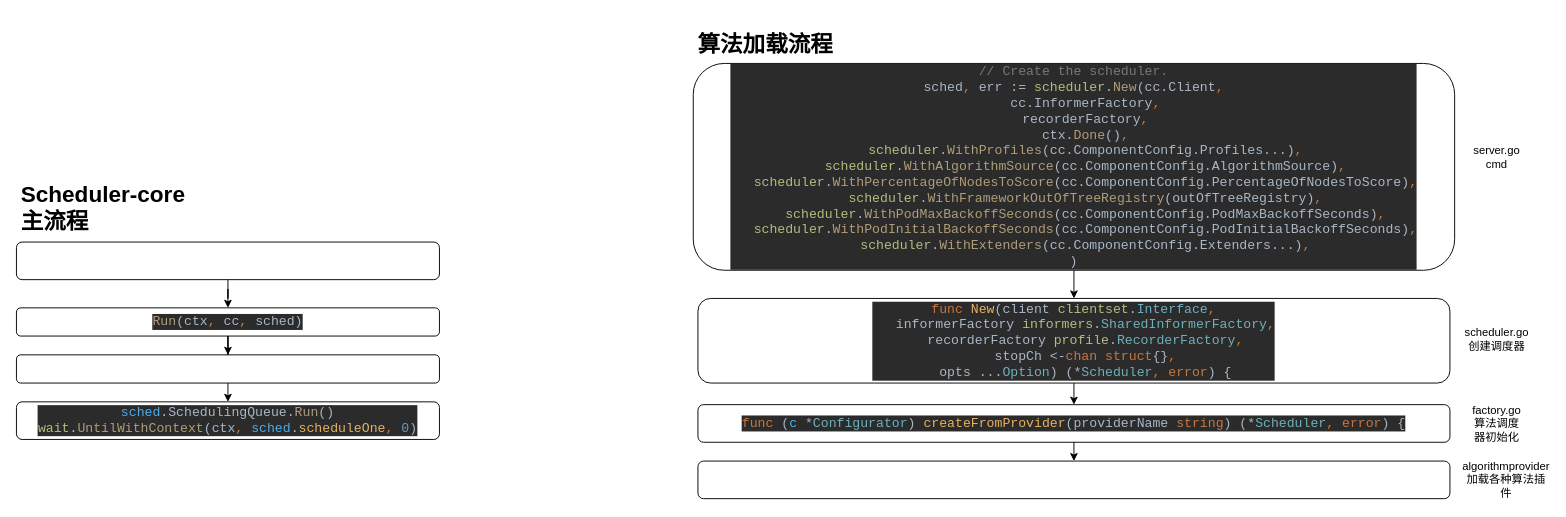
The diagram is 1566 pixels wide and 517 high, and some of its shapes have lost their labels. The shapes that lost their labels are listed below. From the top down, each one's box as (x1, y1, x2, y2) in pixels, then its label:
(16, 241, 439, 280): runCommand (cmd , opts , registryOptions...)
(16, 354, 439, 383): sched. Run (ctx)
(697, 460, 1450, 499): algorithmprovider . NewRegistry ()
